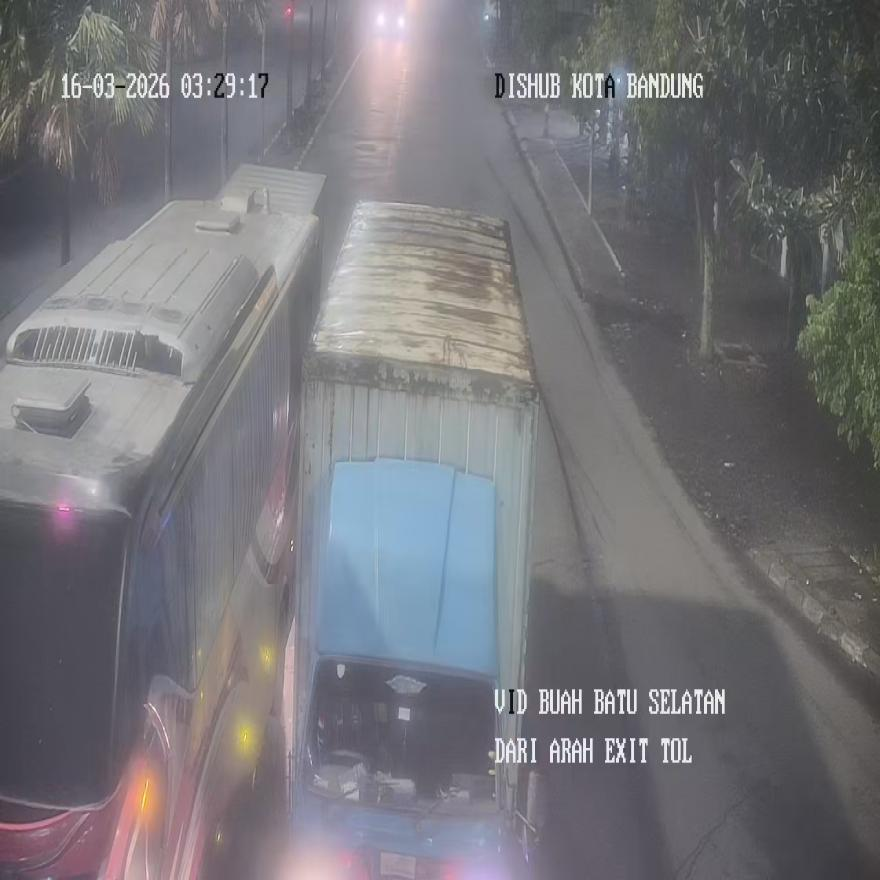Truk berat: (286, 202, 540, 875)
bus: (0, 165, 326, 876)
